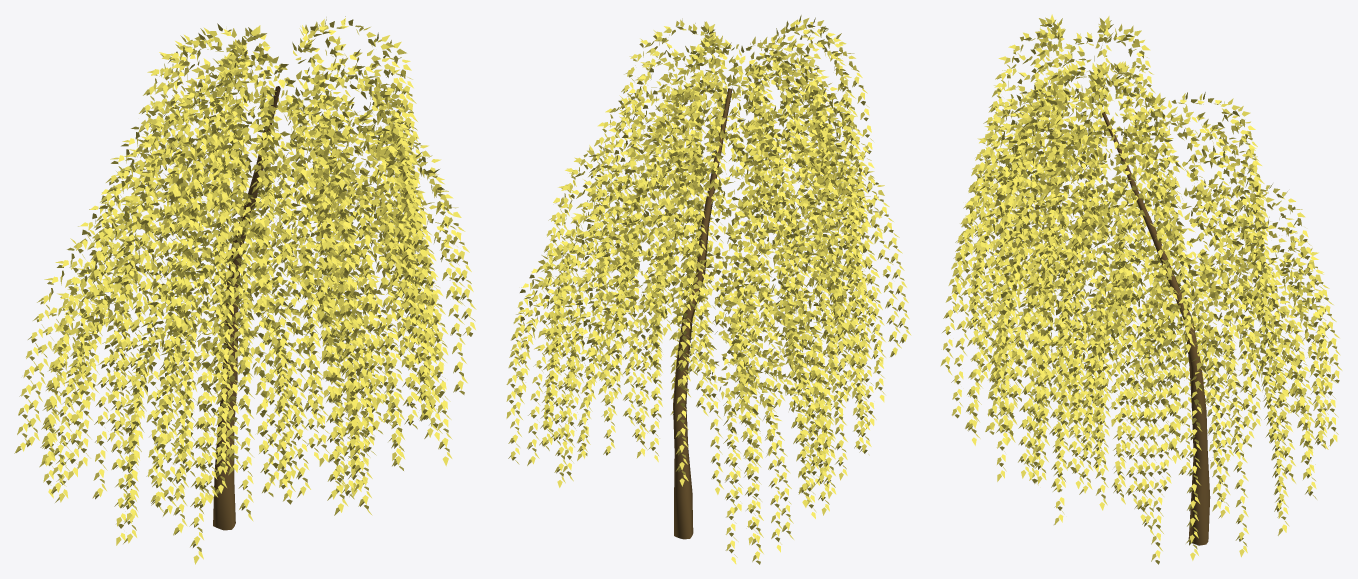
Rendered from tree3.FBX.
3 views of the same model, side by side, from view 1: azimuth 30°, elevation 25°; view 2: azimuth 150°, elevation 25°; view 3: azimuth 270°, elevation 25° (orthographic). The views are drawn at different scales.
Parts seen in each view (by area): view 1: Foliage001; view 2: Foliage001; view 3: Foliage001.
Part boxes in pixels (x1,y1,x2,y2): Foliage001: (14, 16, 476, 564); Foliage001: (506, 15, 911, 564); Foliage001: (940, 14, 1342, 564).
Bounding box in the file's own units: 320 × 435 × 320.
